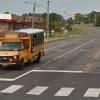Bus: (2, 24, 45, 70)
